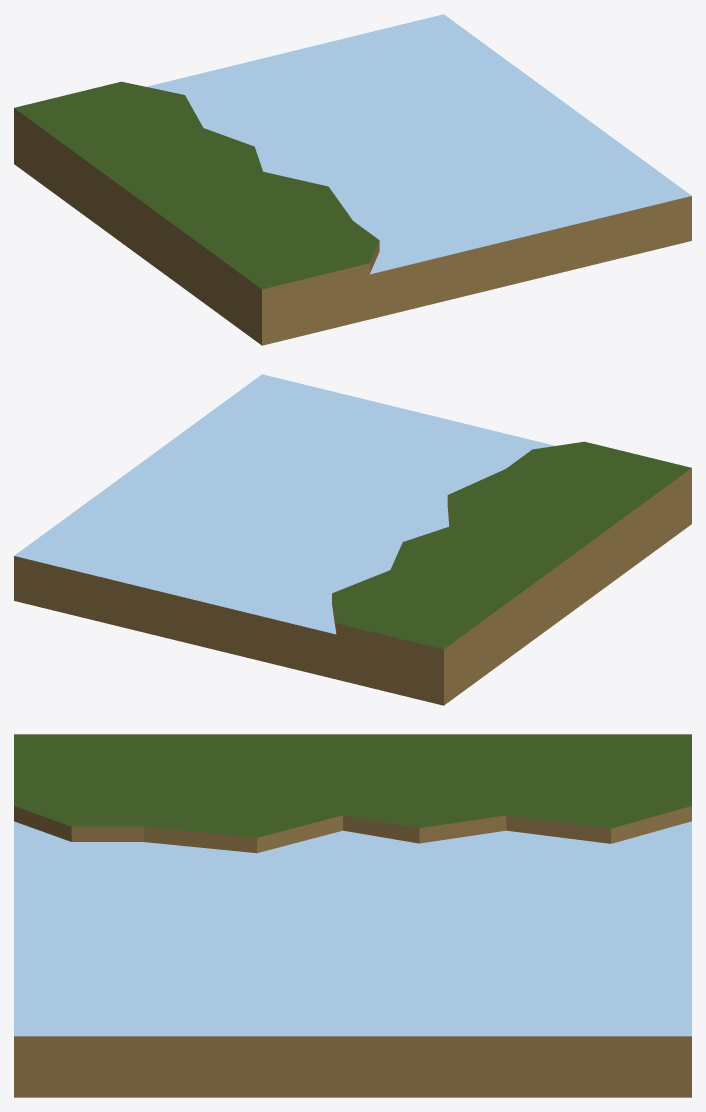
Rendered from Terrain_Tile_Grass_Dirt_Water_Bank_02.fbx.
3 views of the same model, one above another, from view 1: azimuth 30°, elevation 25°; view 2: azimuth 150°, elevation 25°; view 3: azimuth 270°, elevation 25° (orthographic). The views are drawn at different scales.
Visible parts, largest first — view 1: Terrain_Tile_Grass_Dirt_Water_Bank_02; view 2: Terrain_Tile_Grass_Dirt_Water_Bank_02; view 3: Terrain_Tile_Grass_Dirt_Water_Bank_02.
Part boxes in pixels (x1,y1,x2,y2): Terrain_Tile_Grass_Dirt_Water_Bank_02: (14,14,691,345); Terrain_Tile_Grass_Dirt_Water_Bank_02: (14,374,691,705); Terrain_Tile_Grass_Dirt_Water_Bank_02: (14,734,691,1097).
Size of the model in its own units: 126 by 15.75 by 126.
